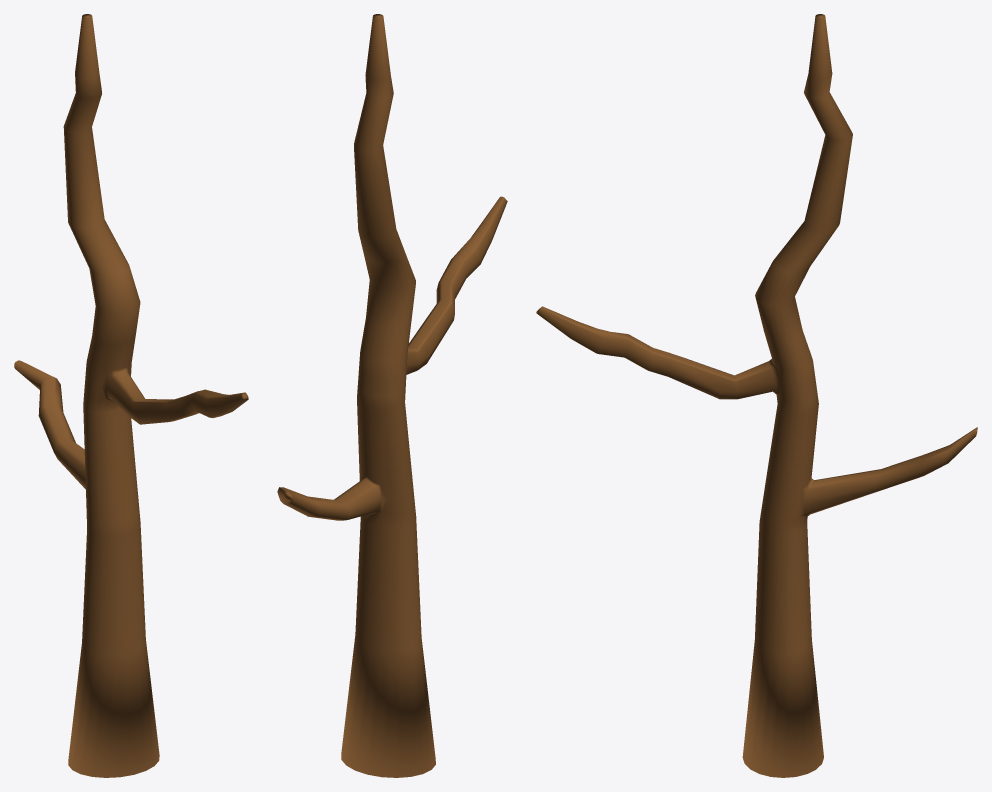
Rendered from ARVORITA3.fbx.
3 renders of one model, left to right at view 1: azimuth 30°, elevation 25°; view 2: azimuth 150°, elevation 25°; view 3: azimuth 270°, elevation 25°, orthographic. The views are drawn at different scales.
Visible parts, largest first — view 1: pCylinder1; view 2: pCylinder1; view 3: pCylinder1.
Boxes of the visible parts, bbox=[...] form: pCylinder1: bbox=[14, 14, 248, 777]; pCylinder1: bbox=[277, 14, 507, 777]; pCylinder1: bbox=[536, 14, 977, 777].
Bounding box in the file's own units: 0.1719 × 1.45 × 0.787.
